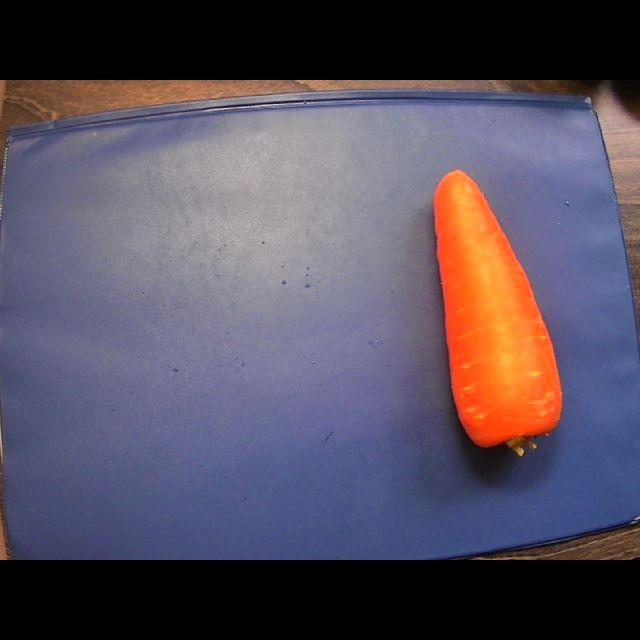zanahoria: (435, 170, 562, 455)
